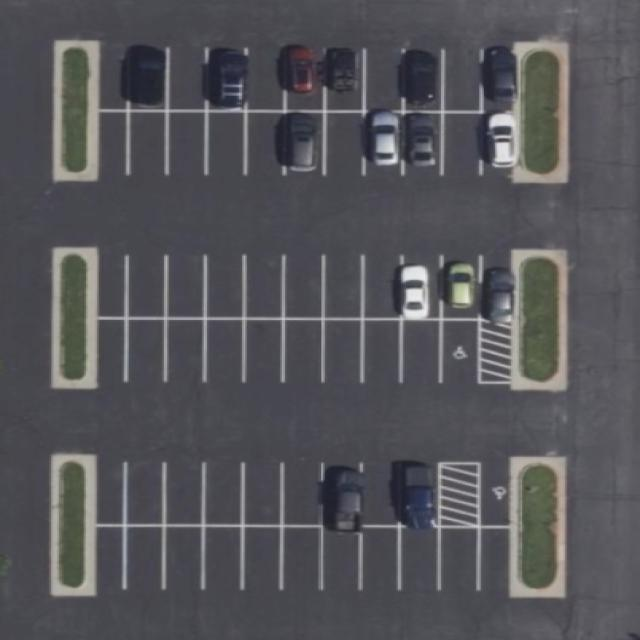Empty: (243, 254, 284, 318), (282, 319, 324, 381), (400, 319, 442, 381), (166, 255, 207, 318), (168, 48, 208, 112), (442, 50, 482, 114), (206, 256, 246, 320), (320, 526, 360, 590), (282, 526, 322, 590), (242, 526, 282, 590), (128, 110, 168, 173), (364, 49, 404, 112), (361, 465, 403, 525), (125, 526, 164, 590), (168, 111, 208, 173), (244, 112, 284, 174), (326, 112, 366, 174), (442, 112, 482, 174), (323, 256, 363, 318), (284, 256, 324, 318), (126, 256, 166, 318), (126, 318, 166, 380), (205, 318, 245, 380), (438, 526, 478, 588), (400, 527, 440, 589), (360, 526, 400, 588), (202, 526, 242, 588), (163, 526, 203, 588), (126, 463, 166, 525), (164, 463, 204, 525), (243, 463, 283, 525), (283, 463, 323, 525), (207, 110, 246, 173), (167, 318, 205, 382), (365, 318, 403, 382), (441, 320, 479, 384), (247, 49, 286, 111), (363, 256, 402, 318), (204, 464, 244, 524), (245, 319, 283, 381), (324, 319, 362, 381), (96, 111, 130, 175), (92, 525, 125, 589), (480, 461, 512, 527), (93, 319, 127, 381), (93, 462, 125, 526), (480, 527, 512, 589), (95, 256, 126, 318), (98, 46, 128, 110)
Parked: (361, 112, 403, 174), (326, 48, 366, 112), (401, 254, 441, 318), (322, 462, 362, 526), (441, 256, 482, 318), (286, 48, 326, 110), (128, 48, 168, 110), (403, 49, 443, 111), (284, 112, 324, 174), (402, 111, 442, 172), (207, 48, 246, 110), (480, 255, 516, 321), (401, 464, 439, 526), (482, 48, 518, 112), (482, 112, 518, 176)
